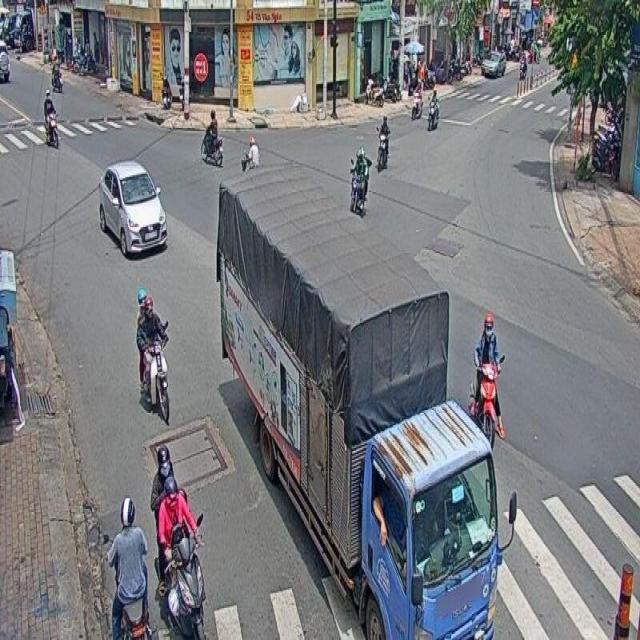car: (98, 163, 170, 256)
motorcycle: (148, 440, 206, 640), (101, 495, 150, 640), (467, 306, 504, 448), (348, 148, 370, 218), (201, 108, 225, 162), (42, 95, 60, 146), (376, 108, 390, 172)
truck: (214, 157, 500, 640)
